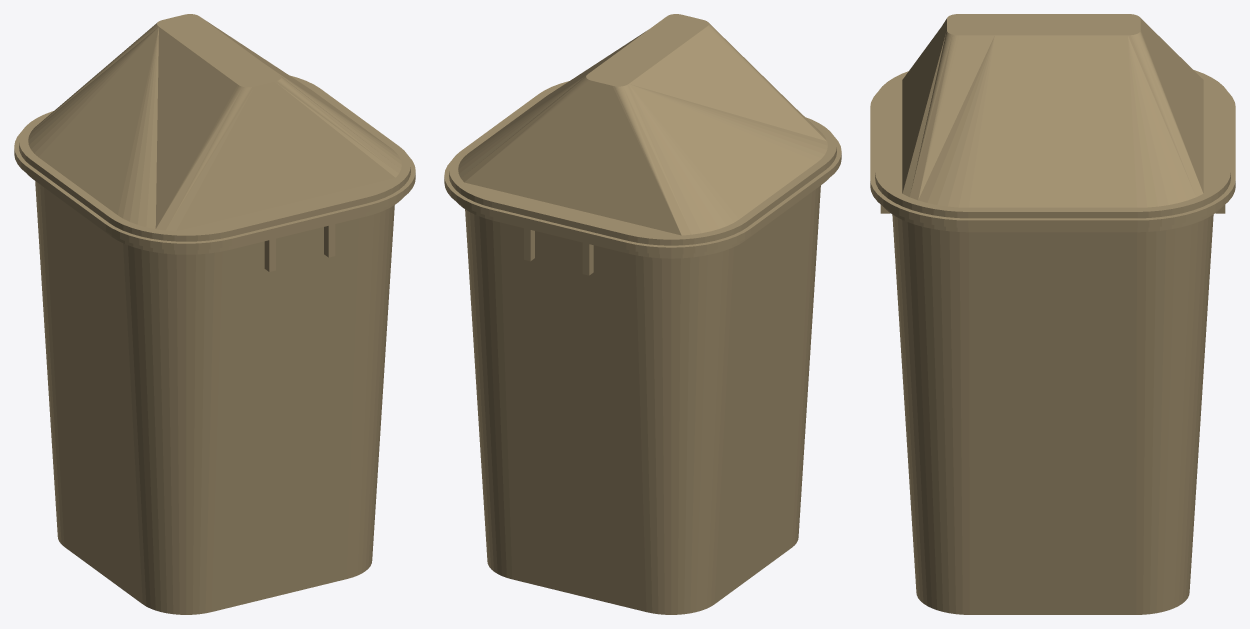
3 views of the same model, side by side, from view 1: azimuth 30°, elevation 25°; view 2: azimuth 150°, elevation 25°; view 3: azimuth 270°, elevation 25° (orthographic). The views are drawn at different scales.
Parts seen in each view (by area): view 1: mesh8_mesh8-geometry, mesh1_mesh1-geometry; view 2: mesh8_mesh8-geometry, mesh1_mesh1-geometry; view 3: mesh8_mesh8-geometry, mesh1_mesh1-geometry.
Boxes of the visible parts, box(x1,y1,x2,y2) form: mesh8_mesh8-geometry: box(27, 174, 402, 614); mesh1_mesh1-geometry: box(14, 14, 415, 250); mesh8_mesh8-geometry: box(457, 178, 828, 614); mesh1_mesh1-geometry: box(444, 14, 841, 254); mesh8_mesh8-geometry: box(880, 205, 1225, 614); mesh1_mesh1-geometry: box(870, 14, 1235, 227).
Size of the model in its own units: 0.4671 by 0.7507 by 0.4671.
